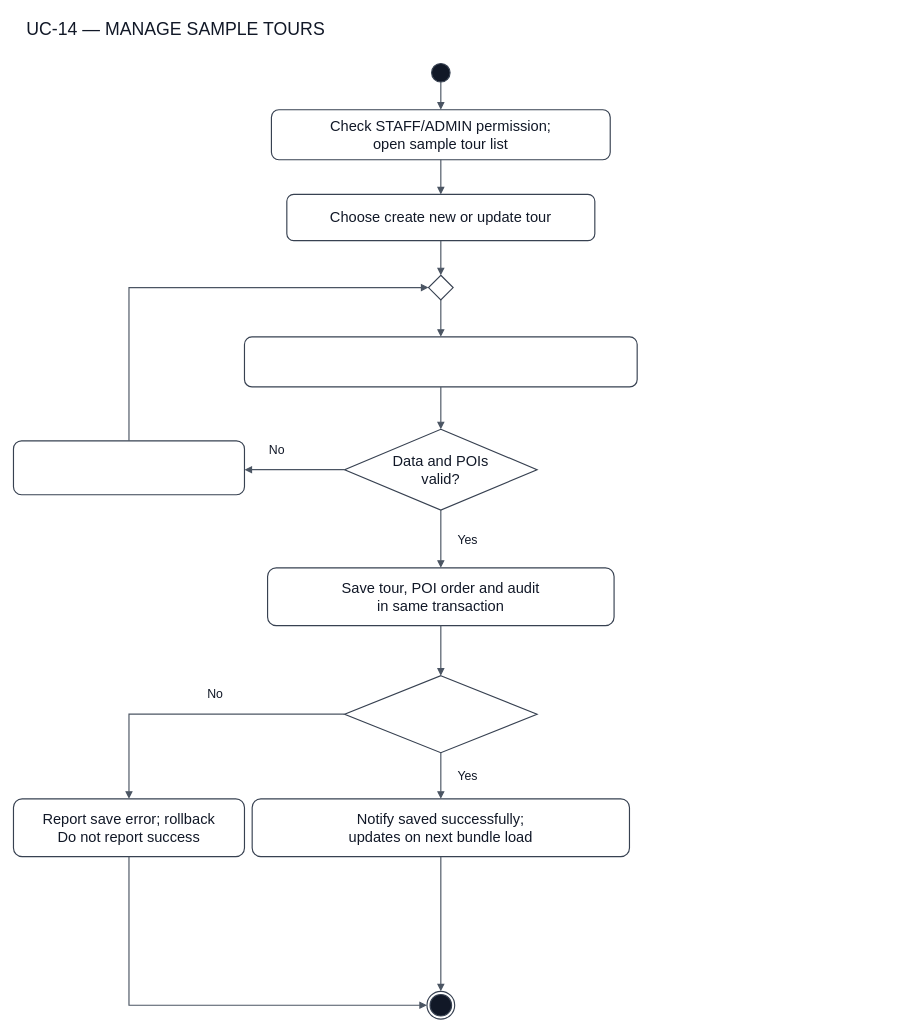
Image size: 909x1033. Some labels were removed from this diagram. Here are the shapes that lost their labels. From the top down, the box of each, then its label:
(244, 336, 637, 387): Enter name, description; select & order POIs; Save
(13, 440, 245, 495): Report data error Request correction
(344, 675, 537, 753): Saved successfully?
